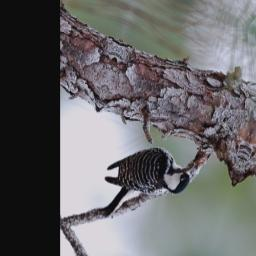Woodpecker: (92, 126, 200, 248)
